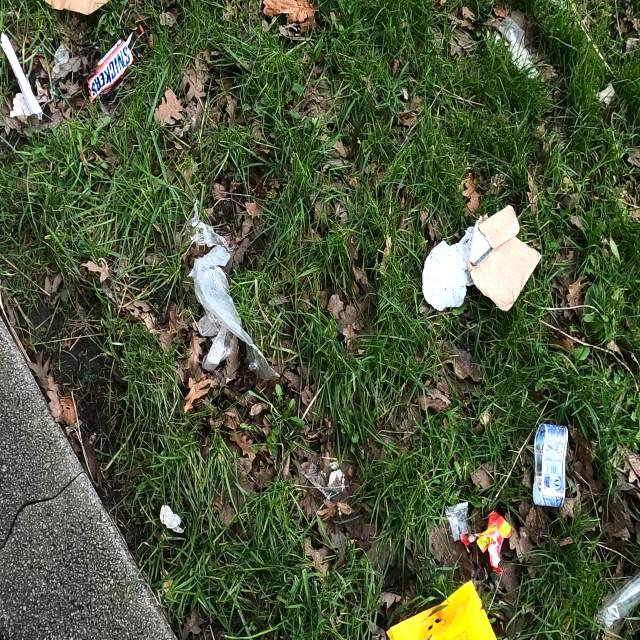Paper: (386, 578, 496, 640)
Plastic: (86, 23, 144, 103), (422, 226, 474, 310), (460, 510, 514, 574), (594, 572, 640, 634), (444, 501, 472, 542)
